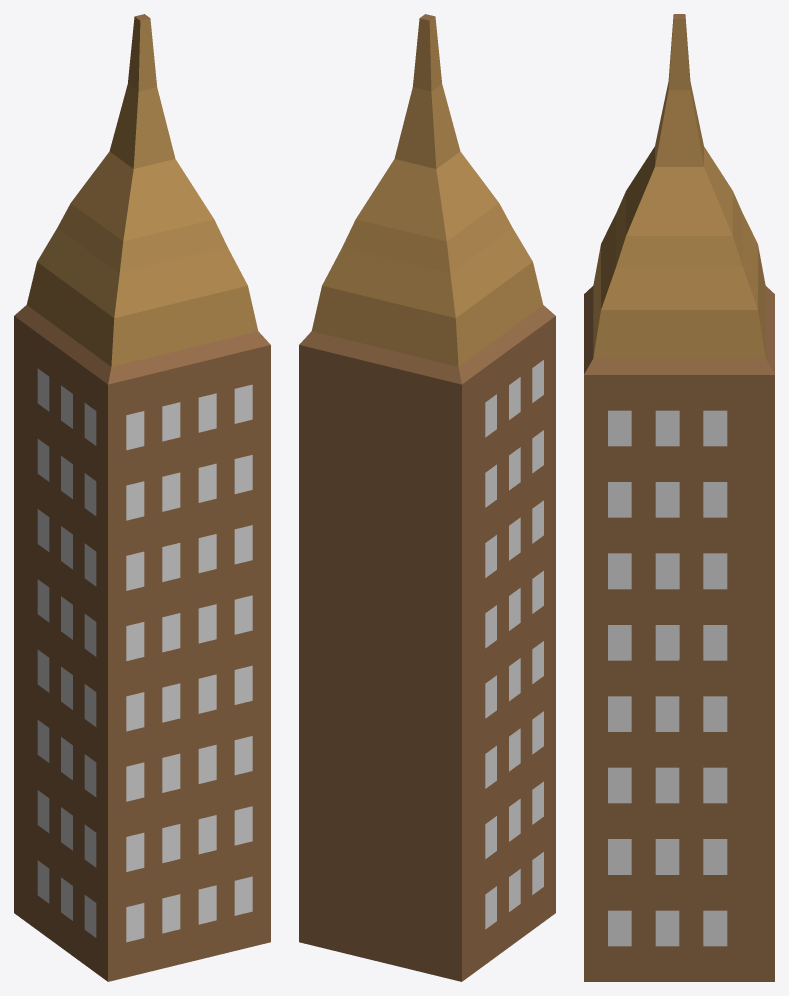
File: House3.fbx
The picture shows the model from 3 angles, left to right: view 1: azimuth 30°, elevation 25°; view 2: azimuth 150°, elevation 25°; view 3: azimuth 270°, elevation 25°; orthographic projection.
Parts seen in each view (by area): view 1: Cube; view 2: Cube; view 3: Cube.
Boxes of the visible parts, x1,y1,x2,y2 form: Cube: [14, 14, 270, 981]; Cube: [299, 14, 555, 981]; Cube: [584, 14, 774, 981].
Size of the model in its own units: 286 by 1529 by 286.
